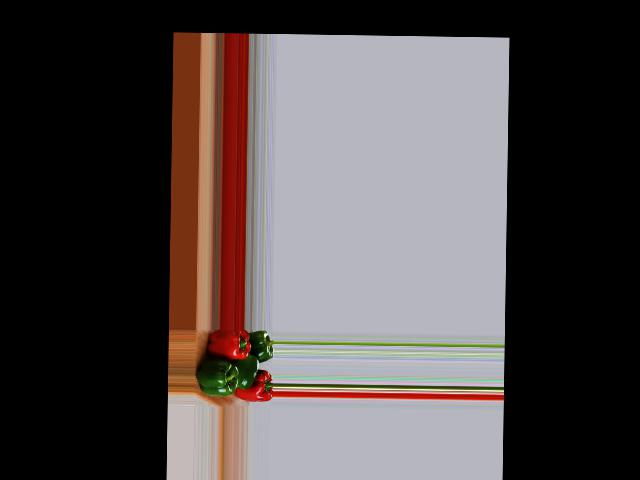bell_pepper: (203, 329, 249, 361)
